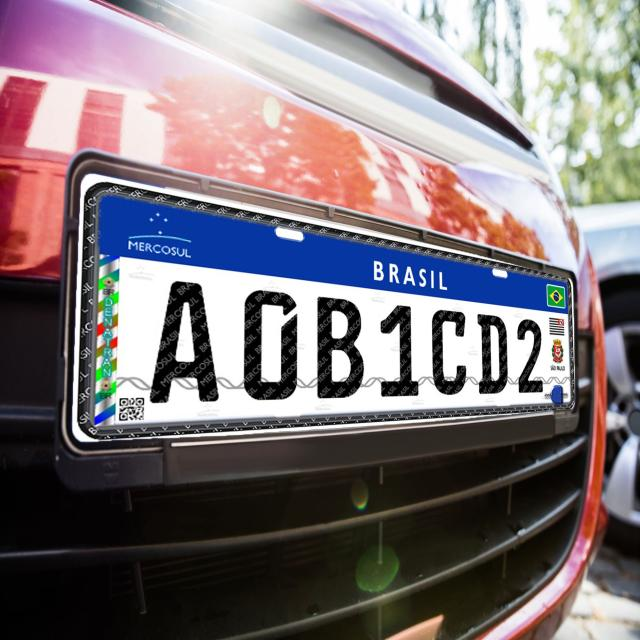placa: (79, 186, 574, 433)
